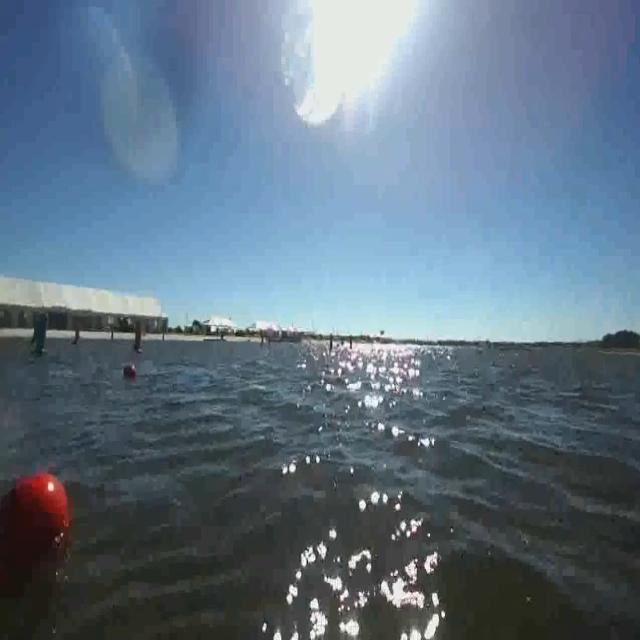black-buoy: (124, 361, 138, 380)
green-column-buoy: (32, 312, 50, 356)
red-buoy: (0, 470, 72, 561)
red-column-buoy: (133, 322, 146, 354), (72, 324, 82, 348)
